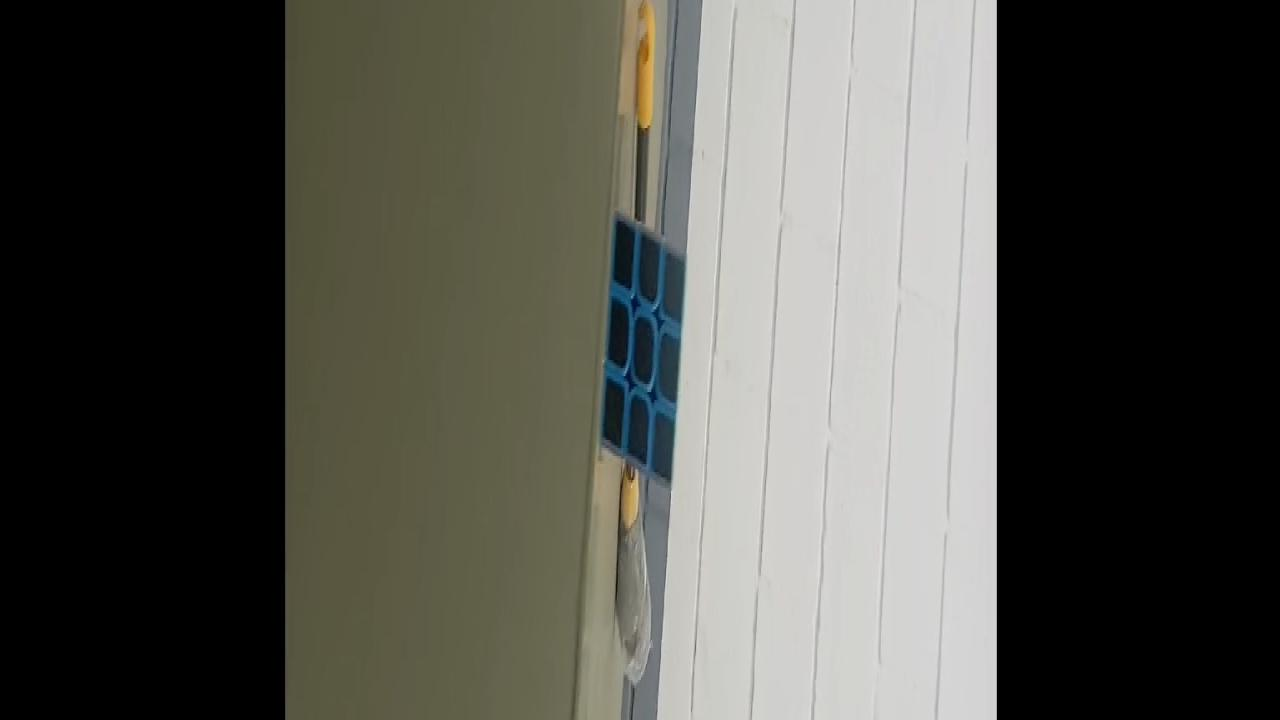Cube: (598, 206, 686, 486)
